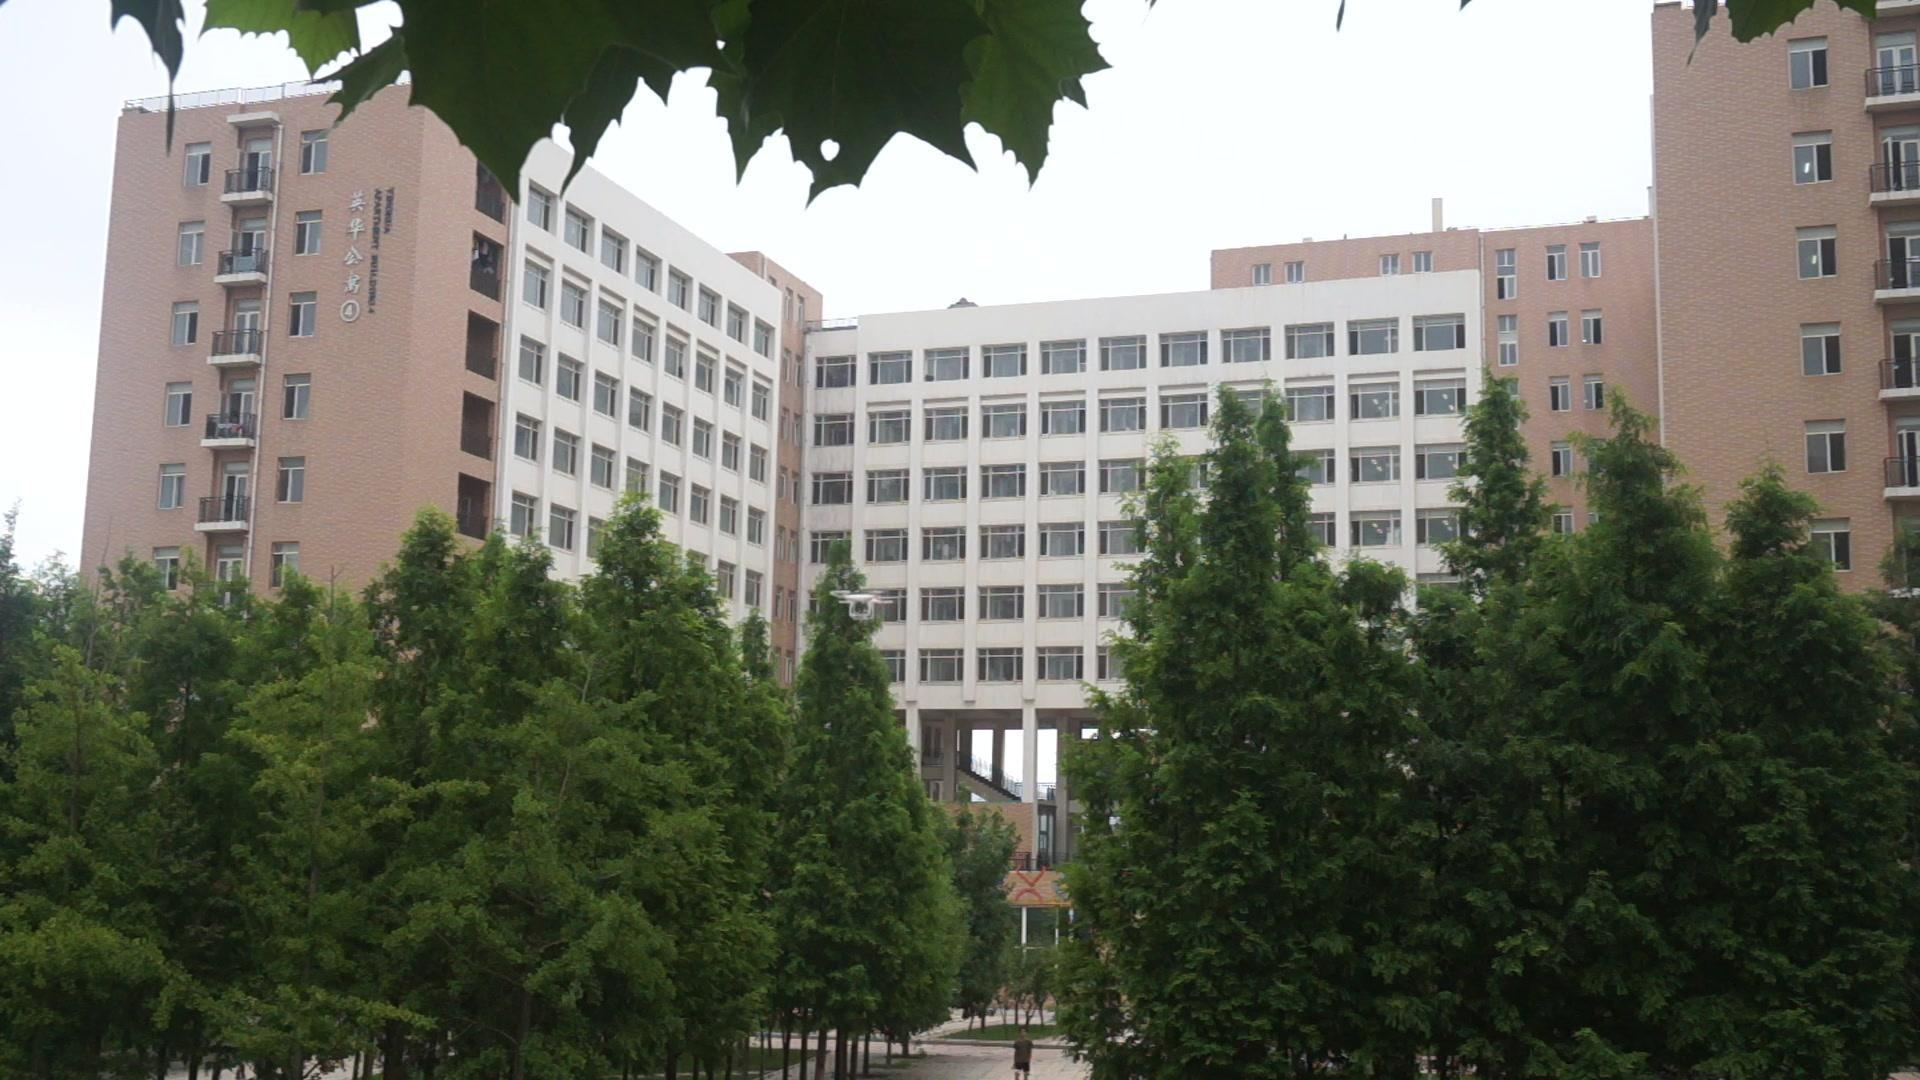UAV: (831, 591, 895, 621)
